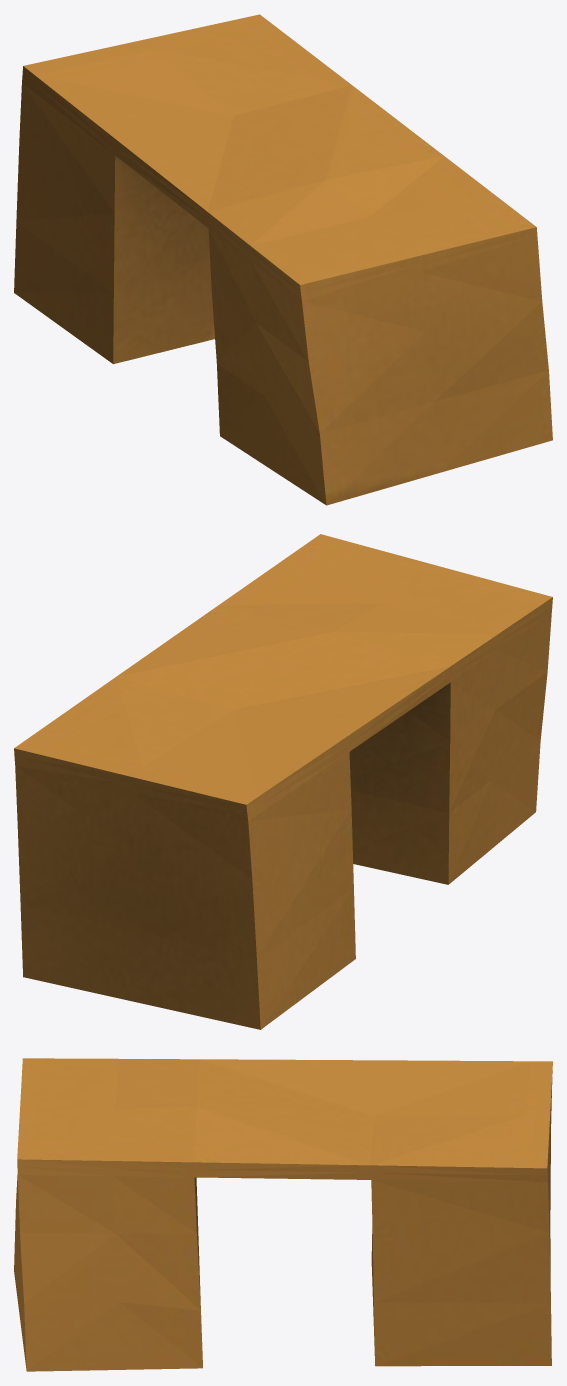
Rendered from Desk 4.fbx.
3 renders of one model, top to bottom at view 1: azimuth 30°, elevation 25°; view 2: azimuth 150°, elevation 25°; view 3: azimuth 270°, elevation 25°, orthographic. The views are drawn at different scales.
Visible parts, largest first — view 1: Desk 4; view 2: Desk 4; view 3: Desk 4.
Part boxes in pixels (x1,y1,x2,y2): Desk 4: (14, 14, 552, 505); Desk 4: (14, 534, 552, 1029); Desk 4: (14, 1058, 552, 1371).
Bounding box in the file's own units: 158 × 135 × 316.
